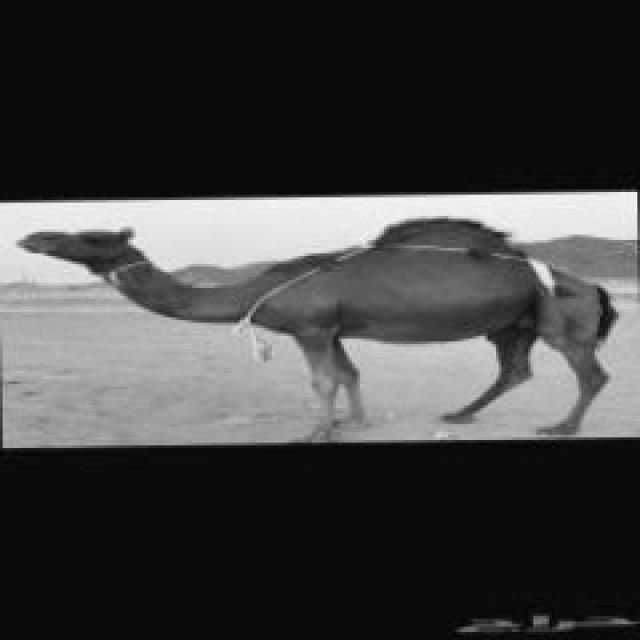Camel: (16, 216, 619, 443)
